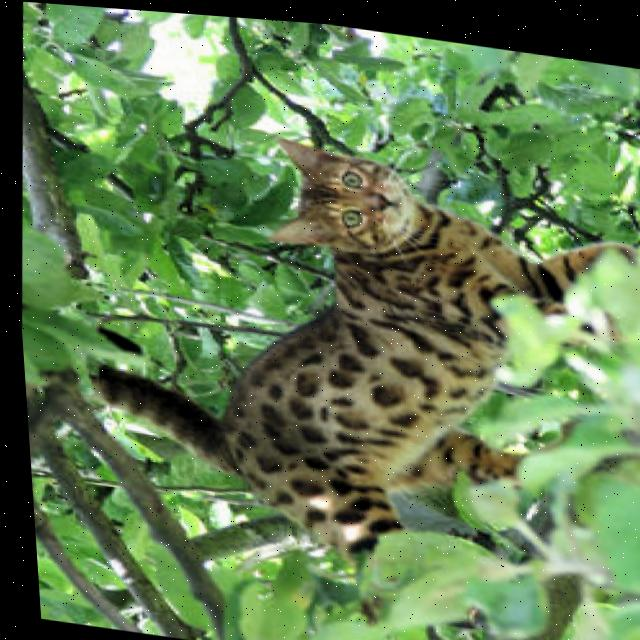Bengal: (5, 90, 640, 629)
